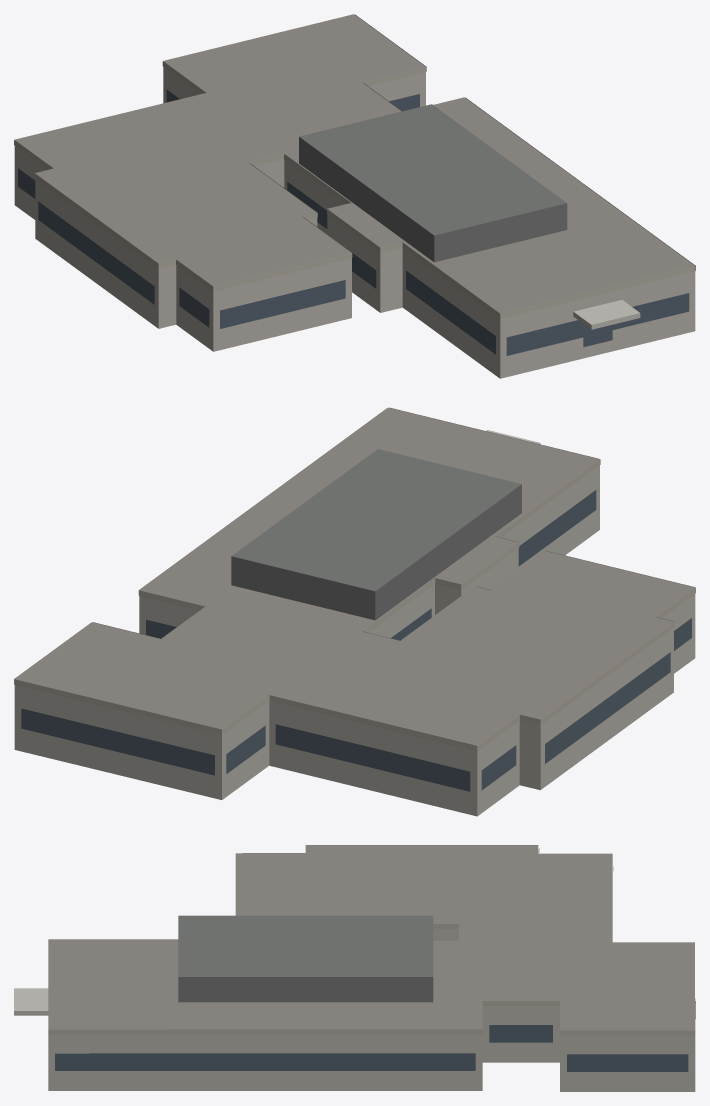
Rendered from salvation-army-markham.glb.
The picture shows the model from 3 angles, top to bottom: view 1: azimuth 30°, elevation 25°; view 2: azimuth 150°, elevation 25°; view 3: azimuth 270°, elevation 25°; orthographic projection. The views are drawn at different scales.
Parts seen in each view (by area): view 1: salvation_army_markham; view 2: salvation_army_markham; view 3: salvation_army_markham.
Boxes of the visible parts, <box> form: salvation_army_markham: <box>14,14,695,378</box>; salvation_army_markham: <box>14,407,695,816</box>; salvation_army_markham: <box>14,845,695,1091</box>.
Bounding box in the file's own units: 38.52 × 8.4 × 59.78.
